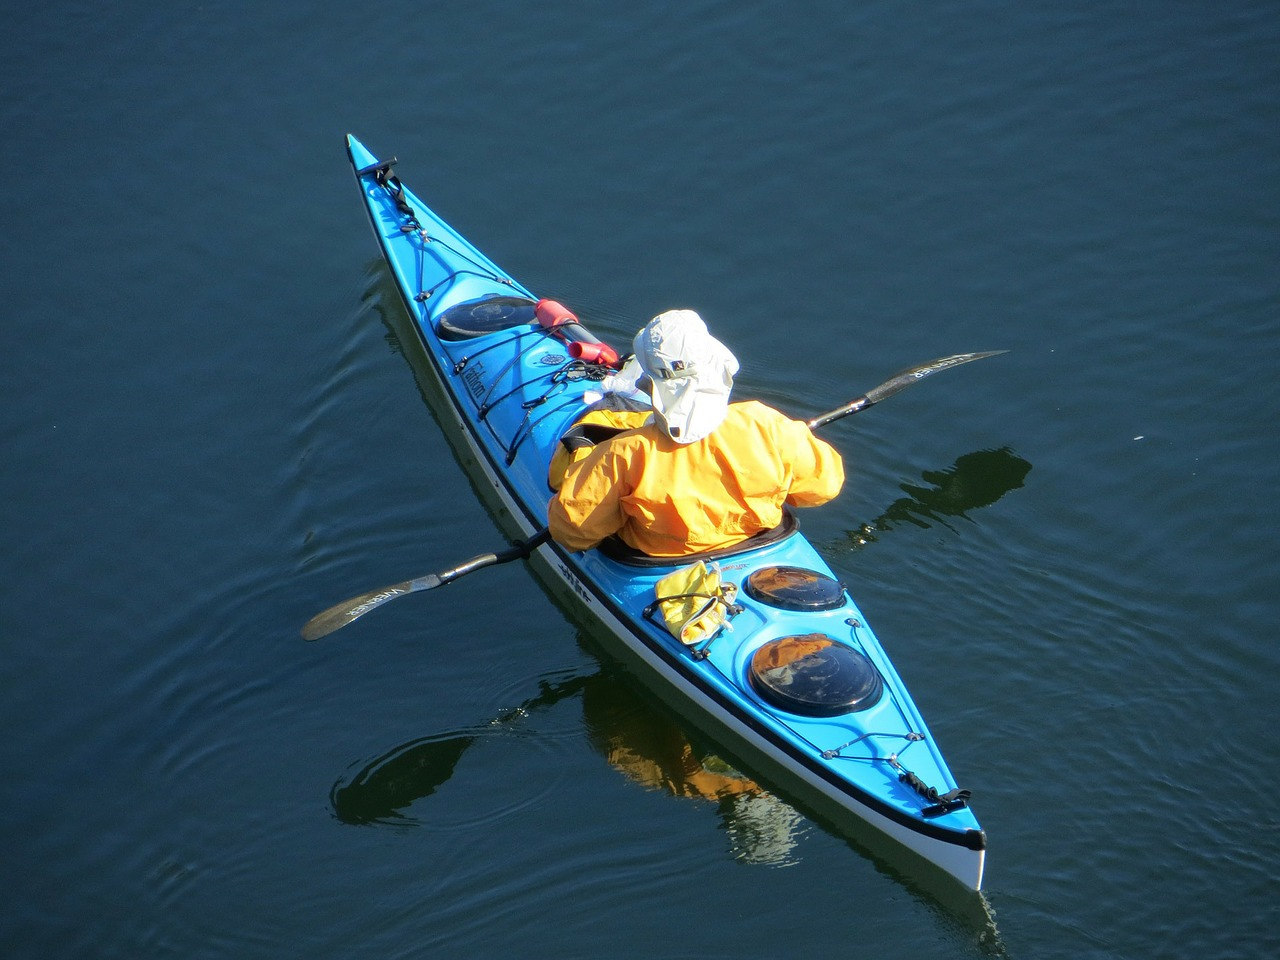kayak: (327, 122, 993, 898)
